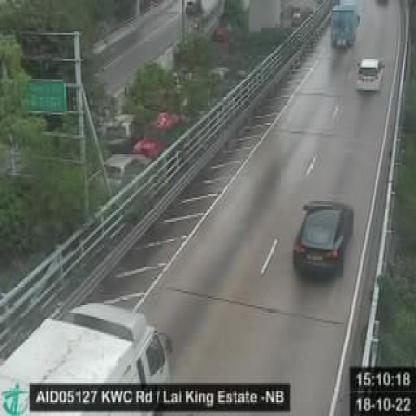Car: (291, 197, 354, 281), (355, 57, 386, 96)
Truck: (0, 303, 174, 411), (329, 3, 360, 51)
